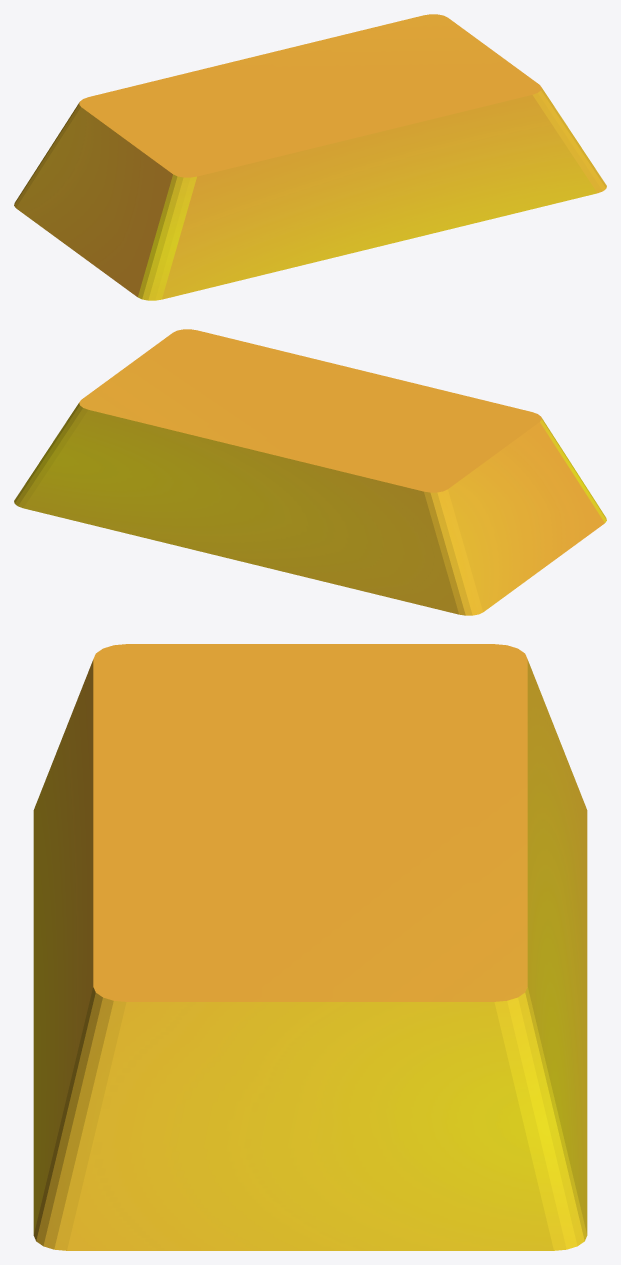
The model's file is goldt.fbx.
3 renders of one model, top to bottom at view 1: azimuth 30°, elevation 25°; view 2: azimuth 150°, elevation 25°; view 3: azimuth 270°, elevation 25°, orthographic. The views are drawn at different scales.
Visible parts, largest first — view 1: gold; view 2: gold; view 3: gold.
Boxes of the visible parts, left/top/right/bottom form: gold: left=14, top=14, right=606, bottom=300; gold: left=14, top=329, right=606, bottom=615; gold: left=33, top=644, right=587, bottom=1250.
Size of the model in its own units: 200 by 40.87 by 103.
Materials: 1 (1 with a texture image).
